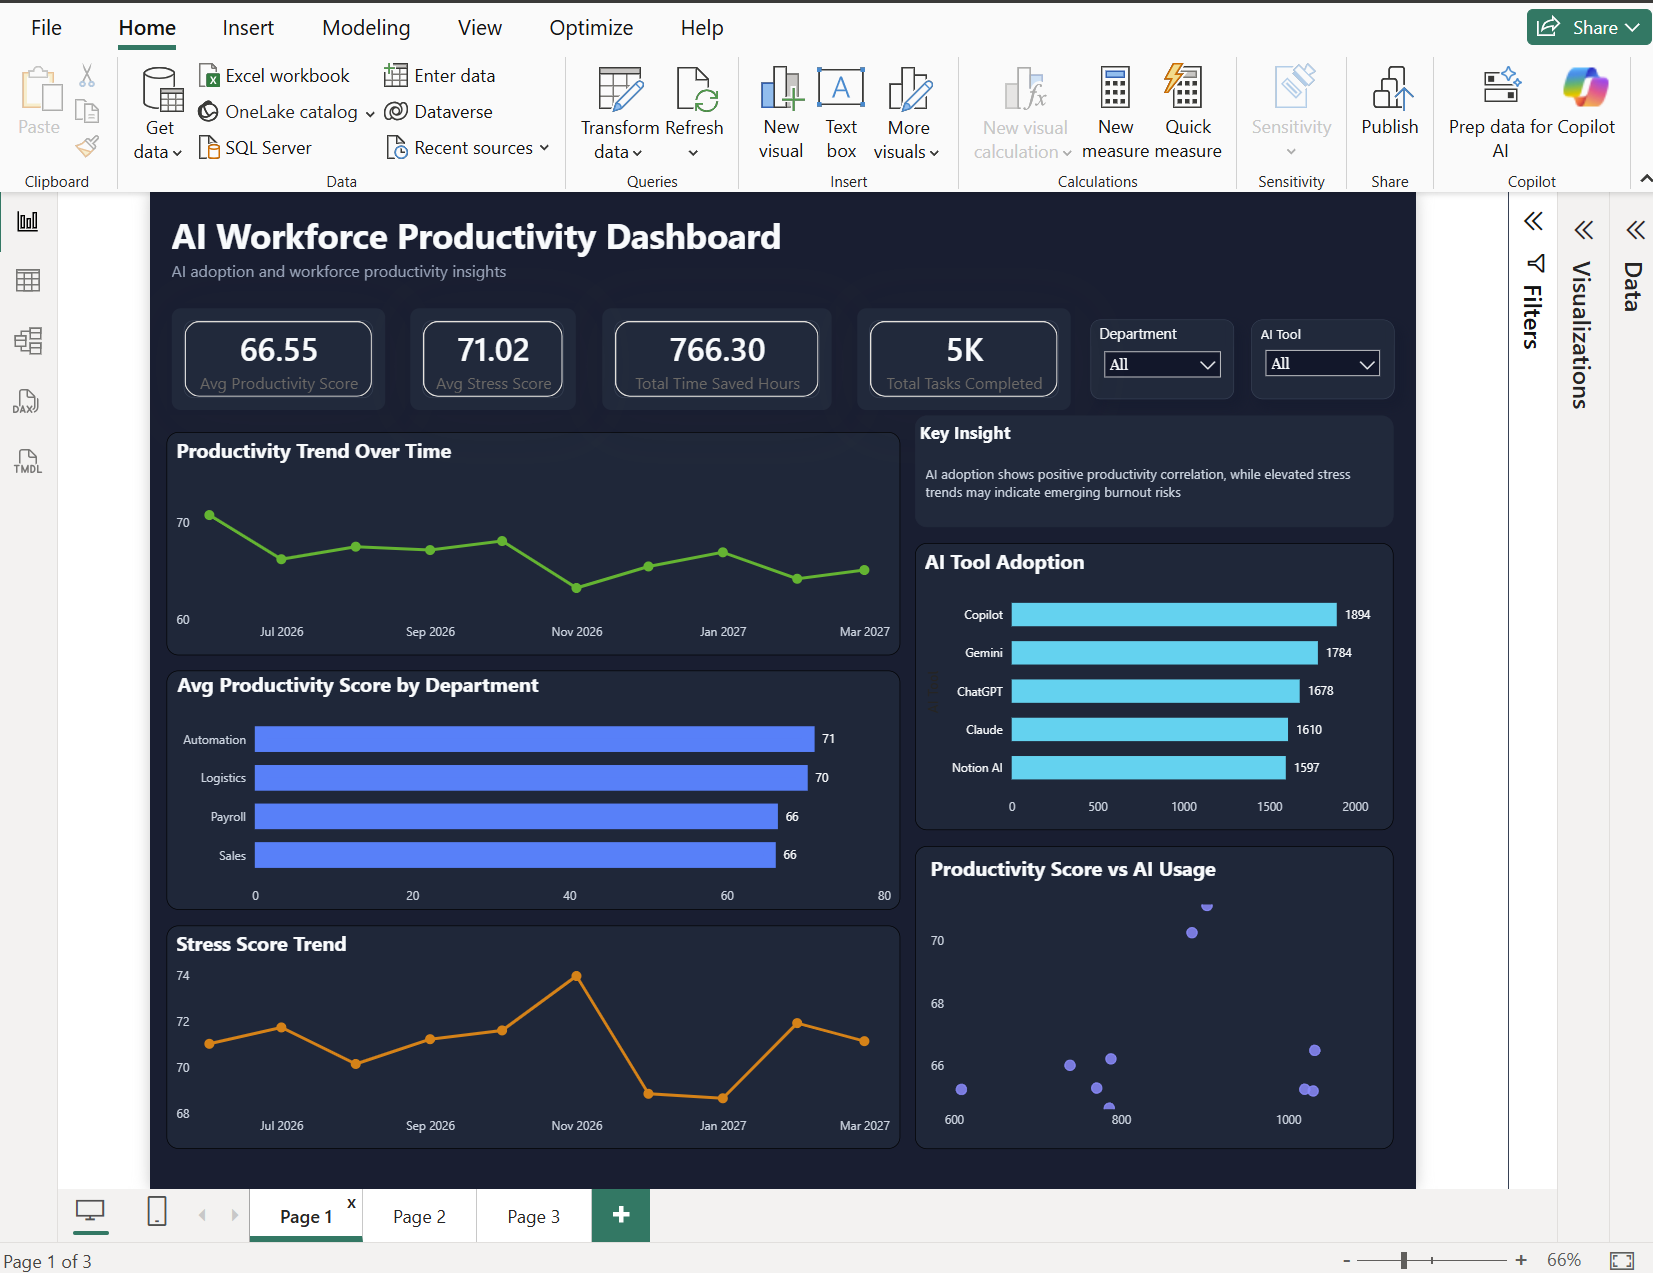

The dashboard page shown, as its layout file describes it:
{"tool":"powerbi","page":{"name":"Page 1","canvas":[1270,1000],"ordinal":0},"visuals":[{"type":"cardVisual","fields":{"Data":["AI_Usage.Avg Productivity Score"]},"box":[16,112,224,112],"z":0},{"type":"textbox","title":"AI Workforce Productivity Dashboard","box":[16.5,19.6,815.5,75.2],"z":1000},{"type":"lineChart","title":"Productivity Trend Over Time","fields":{"Y":["AI_Usage.Avg Productivity Score"],"Category":["Productivity.Date.Variation.Date Hierarchy.Year","Productivity.Date.Variation.Date Hierarchy.Month"]},"box":[16,240,736,224],"z":2000},{"type":"clusteredBarChart","fields":{"Category":["EMPLOYEES.Department"],"Y":["AI_Usage.Avg Productivity Score"]},"box":[16,480,736,240],"z":3000},{"type":"barChart","title":"AI Tool Adoption","fields":{"Category":["AI_Usage.AI Tool"],"Y":["AI_Usage.Total Prompts Used"]},"box":[768,352,480,288],"z":4000},{"type":"lineChart","title":"Stress Score Trend","fields":{"Category":["Burnout.Date.Variation.Date Hierarchy.Year","Burnout.Date.Variation.Date Hierarchy.Month"],"Y":["AI_Usage.Avg Stress Score"]},"box":[16,736,736,224],"z":5000},{"type":"scatterChart","title":"Productivity Score vs AI Usage","fields":{"X":["AI_Usage.Total Prompts Used"],"Y":["AI_Usage.Avg Productivity Score"],"Category":["EMPLOYEES.Department"]},"box":[768,656,480,304],"z":6000},{"type":"slicer","title":"Department","fields":{"Values":["EMPLOYEES.Department"]},"box":[944,128,144,80],"z":7000},{"type":"slicer","title":"AI Tool","fields":{"Values":["AI_Usage.AI Tool"]},"box":[1104,128,144,80],"z":8000},{"type":"cardVisual","fields":{"Data":["Sum(AI_Usage.TimeSavedHours)"]},"box":[448,112,240,112],"z":9000},{"type":"cardVisual","fields":{"Data":["AI_Usage.Total Tasks Completed"]},"box":[704,112,224,112],"z":10000},{"type":"cardVisual","fields":{"Data":["AI_Usage.Avg Stress Score"]},"box":[256,112,176,112],"z":11000},{"type":"shape","title":"Key Insight","box":[768,224,480,112],"z":12000}]}

Visuals, with their boxes on the page's 1270x1000 design canvas (x1, y1, x2, y2). These are canvas units, not pixel positions in the 1653x1273 screenshot, which may show the page scaled, cropped or inside an application window:
cardVisual - AI_Usage.Avg Productivity Score: 16/112/240/224
"AI Workforce Productivity Dashboard" textbox: 16/20/832/95
"Productivity Trend Over Time" lineChart: 16/240/752/464
clusteredBarChart - EMPLOYEES.Department x AI_Usage.Avg Productivity Score: 16/480/752/720
"AI Tool Adoption" barChart: 768/352/1248/640
"Stress Score Trend" lineChart: 16/736/752/960
"Productivity Score vs AI Usage" scatterChart: 768/656/1248/960
"Department" slicer: 944/128/1088/208
"AI Tool" slicer: 1104/128/1248/208
cardVisual - Sum(AI_Usage.TimeSavedHours): 448/112/688/224
cardVisual - AI_Usage.Total Tasks Completed: 704/112/928/224
cardVisual - AI_Usage.Avg Stress Score: 256/112/432/224
"Key Insight" shape: 768/224/1248/336
